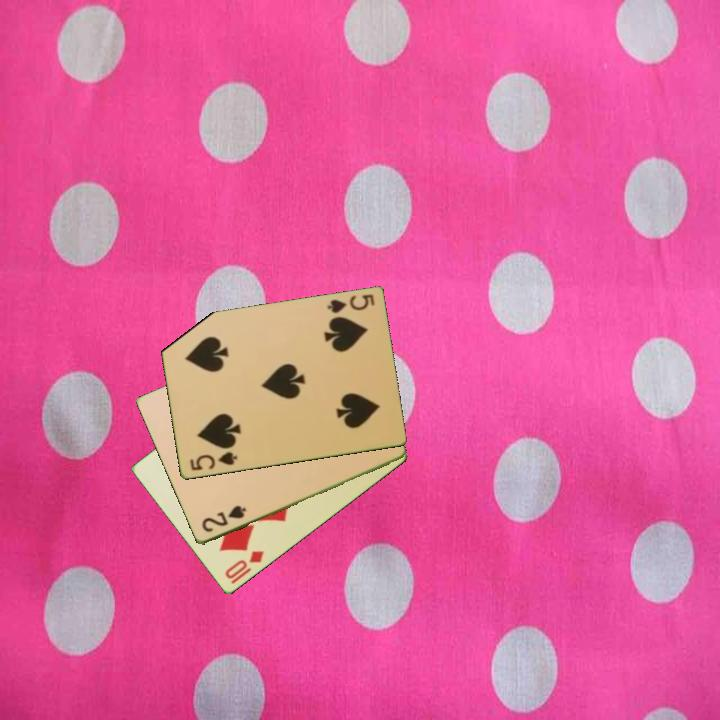10d: (221, 547, 267, 587)
2s: (198, 502, 249, 536)
5s: (324, 291, 377, 317), (186, 449, 240, 474)
